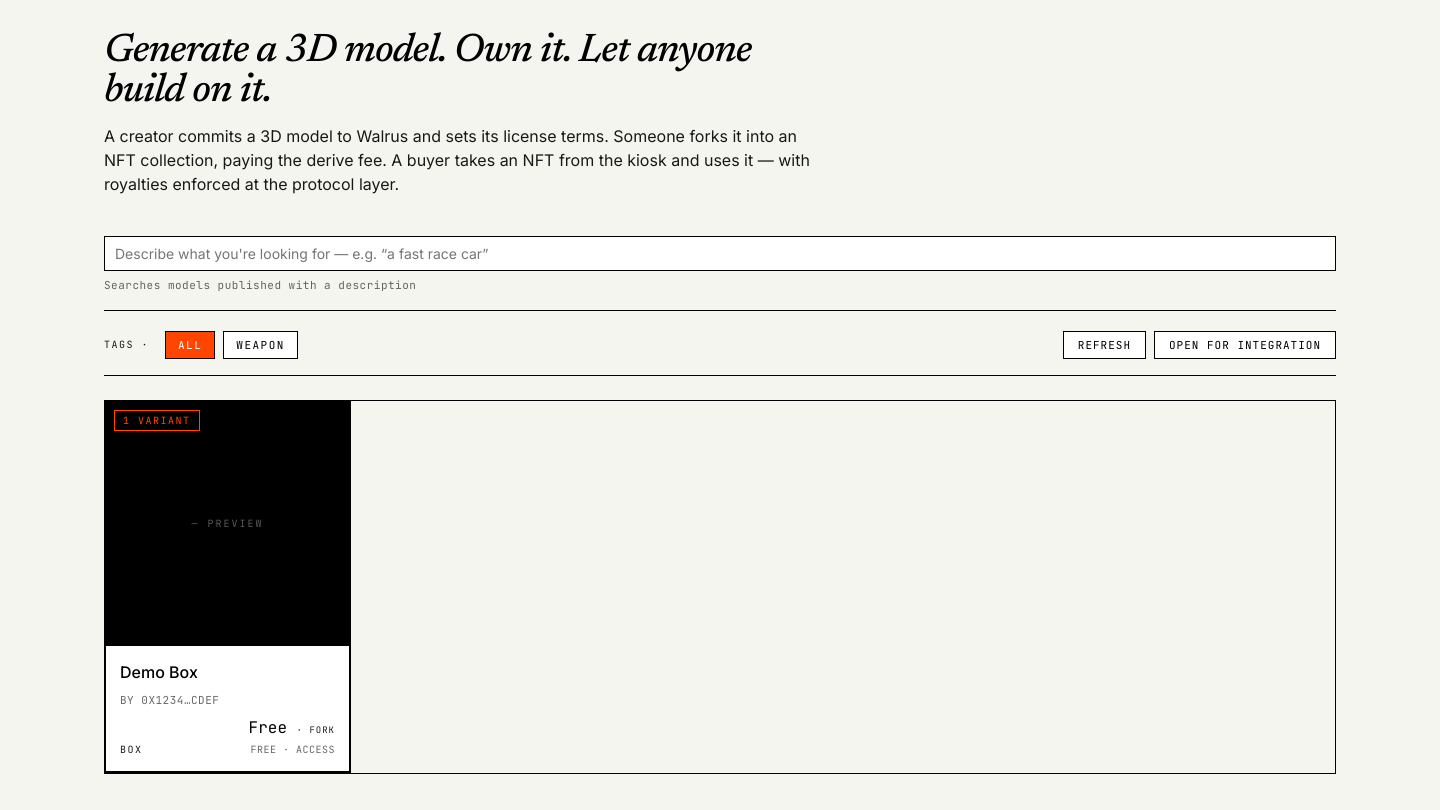
Test: BrowsePage › AE3: drives both personal + global recall and highlights a personal-scope (own model) match
This screenshot has width=1440, height=810.
Type "race car" into the field with test id "browse-search-input" at (720, 254), box [104,236,1336,271]
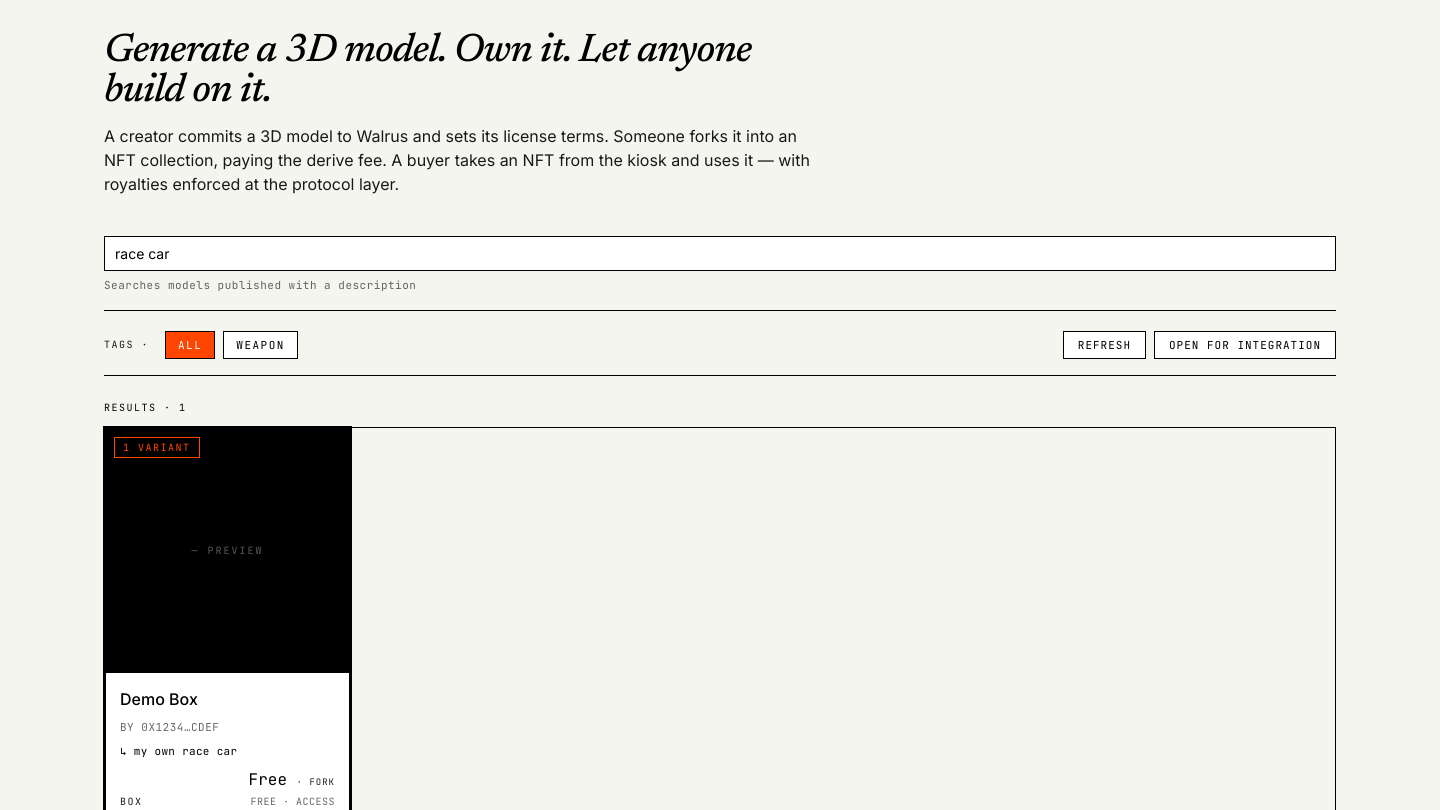
Check: the text with test id "collection-card-match-reason" shows "my own race car", box [134,744,237,758]
